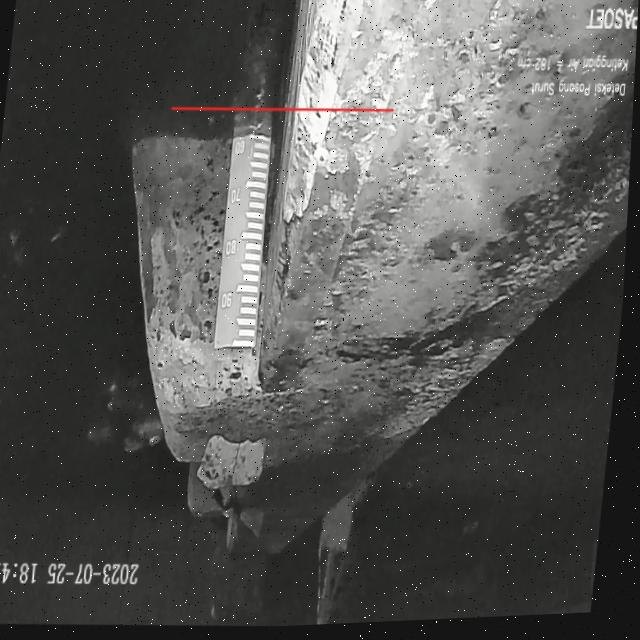water-meter: (206, 111, 283, 362)
